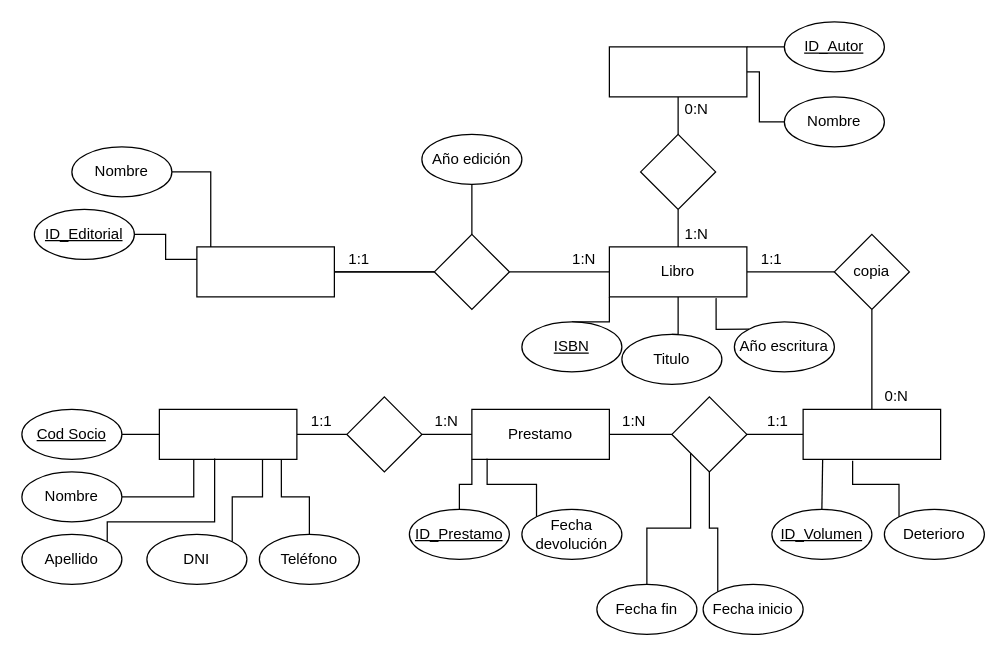
The diagram is 1006 pixels wide and 656 high, and some of its shapes have lost their labels. The shapes that lost their labels are listed below. From the top down, each one's centre as x and y in pixels, then its label:
the point at 677,71: Autor
the point at 677,171: escribió
the point at 265,271: Editorial
the point at 471,271: publica
the point at 227,433: Socio
the point at 384,434: pide
the point at 709,434: prestado
the point at 871,433: Volumen
